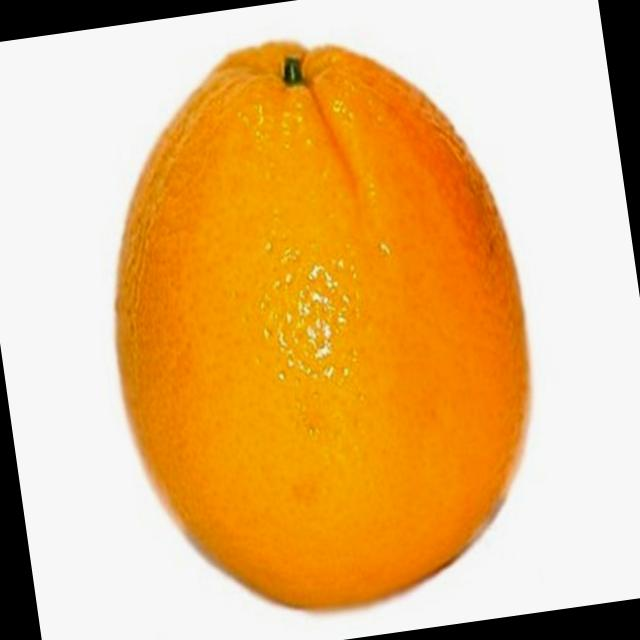orange: (69, 9, 561, 640)
